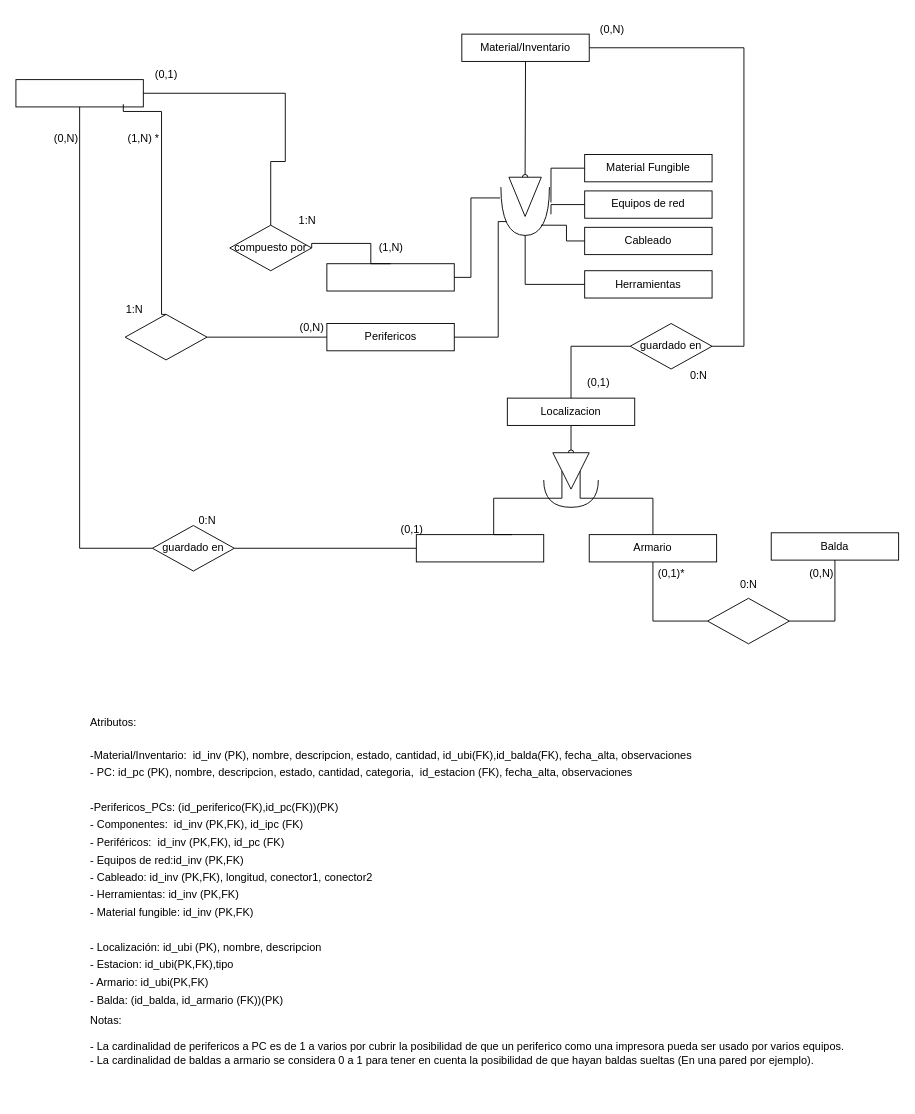
This 915x1114 diagram has some shape labels left out. Here are the shapes that lost their labels. From the top down, the centre of each, then its label:
At (x=79, y=93): "PC".
At (x=390, y=277): "Componentes".
At (x=165, y=336): "pertenece a".
At (x=479, y=548): "Estacion".
At (x=748, y=620): "tiene".
